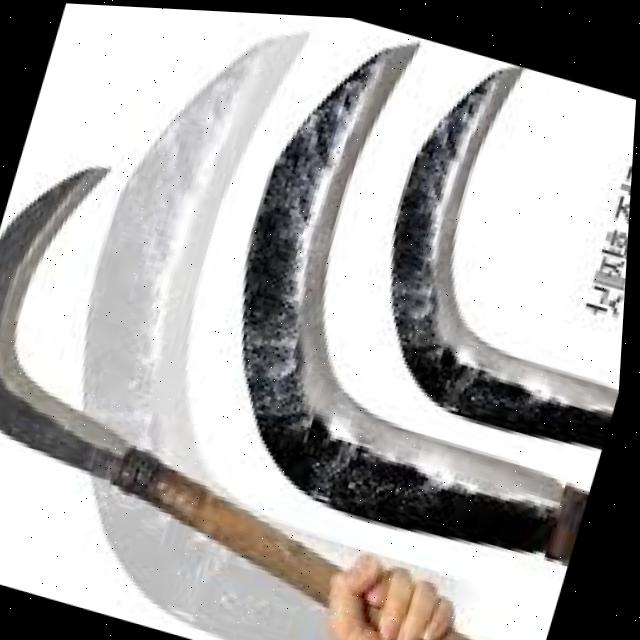sickle: (0, 115, 618, 640), (174, 8, 640, 581), (365, 42, 639, 472)
